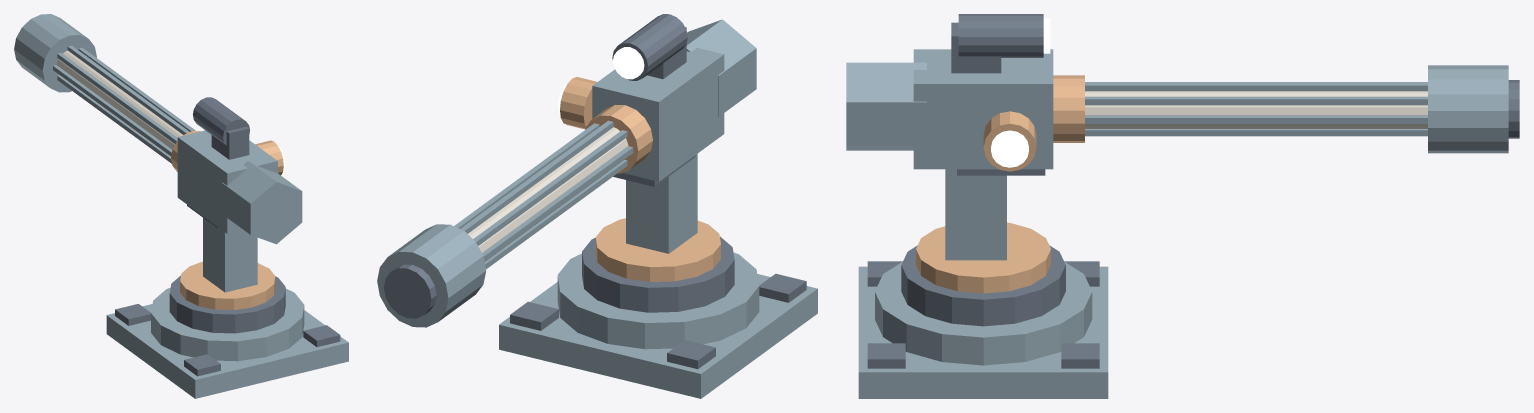
File: sniper_turret.glb
The picture shows the model from 3 angles, left to right: view 1: azimuth 30°, elevation 25°; view 2: azimuth 150°, elevation 25°; view 3: azimuth 270°, elevation 25°; orthographic projection. The views are drawn at different scales.
Parts seen in each view (by area): view 1: Base_Plate, Ped_1, Breech, Counterweight, Muzzle, Ped_2, Arm_Post, Ped_3, Barrel, Scope, Flute_3, Flute_2 (+8 smaller); view 2: Base_Plate, Breech, Ped_1, Muzzle, Ped_2, Arm_Post, Ped_3, Counterweight, Barrel, Scope, Bore, Collar (+11 smaller); view 3: Breech, Base_Plate, Ped_1, Barrel, Muzzle, Counterweight, Ped_2, Ped_3, Arm_Post, Scope, Flute_1, Flute_0 (+10 smaller).
Part boxes in pixels (left/top/right/bottom): Base_Plate: left=106, top=304, right=348, bottom=398; Ped_1: left=151, top=287, right=304, bottom=361; Breech: left=177, top=130, right=277, bottom=233; Counterweight: left=222, top=161, right=302, bottom=244; Muzzle: left=14, top=14, right=96, bottom=92; Ped_2: left=169, top=275, right=285, bottom=333; Arm_Post: left=203, top=218, right=257, bottom=292; Ped_3: left=180, top=261, right=275, bottom=309; Barrel: left=56, top=50, right=182, bottom=156; Scope: left=193, top=97, right=249, bottom=145; Flute_3: left=57, top=52, right=177, bottom=143; Flute_2: left=67, top=45, right=189, bottom=134; Base_Plate: left=499, top=274, right=817, bottom=398; Breech: left=592, top=47, right=724, bottom=181; Ped_1: left=557, top=252, right=759, bottom=349; Muzzle: left=377, top=224, right=486, bottom=327; Ped_2: left=582, top=236, right=734, bottom=312; Arm_Post: left=626, top=154, right=697, bottom=253; Ped_3: left=595, top=218, right=720, bottom=281; Counterweight: left=686, top=19, right=756, bottom=116; Barrel: left=468, top=127, right=628, bottom=261; Scope: left=612, top=14, right=687, bottom=80; Bore: left=384, top=264, right=436, bottom=318; Collar: left=585, top=105, right=652, bottom=173; Breech: left=913, top=49, right=1053, bottom=169; Base_Plate: left=858, top=266, right=1108, bottom=398; Ped_1: left=875, top=262, right=1092, bottom=365; Barrel: left=1085, top=91, right=1427, bottom=128; Muzzle: left=1428, top=65, right=1508, bottom=153; Counterweight: left=846, top=62, right=926, bottom=150; Ped_2: left=901, top=245, right=1065, bottom=326; Ped_3: left=916, top=222, right=1050, bottom=293; Arm_Post: left=945, top=169, right=1006, bottom=260; Scope: left=958, top=14, right=1043, bottom=57; Flute_1: left=1085, top=96, right=1427, bottom=105; Flute_0: left=1085, top=115, right=1427, bottom=123.
Size of the model in its own units: 1.7 by 2.48 by 4.59.
